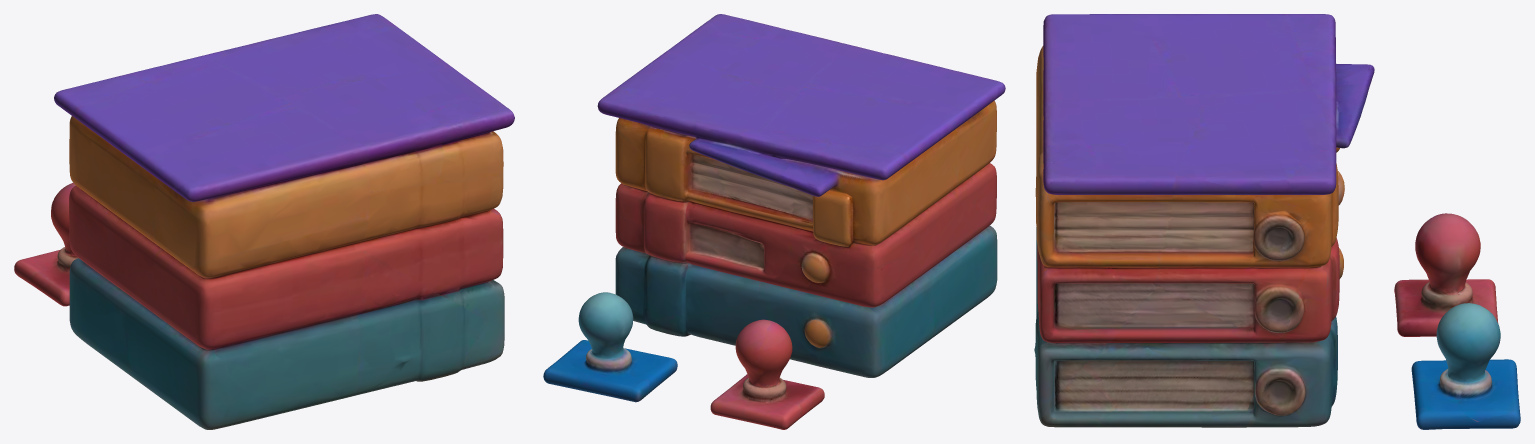
File: role_regulatory_reasoner_desk.glb
3 views of the same model, side by side, from view 1: azimuth 30°, elevation 25°; view 2: azimuth 150°, elevation 25°; view 3: azimuth 270°, elevation 25° (orthographic). The views are drawn at different scales.
Parts seen in each view (by area): view 1: tripo_node_2c0a401e-3ed2-48be-8f91-9cd66641907e; view 2: tripo_node_2c0a401e-3ed2-48be-8f91-9cd66641907e; view 3: tripo_node_2c0a401e-3ed2-48be-8f91-9cd66641907e.
Boxes of the visible parts, box(x1,y1,x2,y2) form: tripo_node_2c0a401e-3ed2-48be-8f91-9cd66641907e: box(14, 14, 514, 429); tripo_node_2c0a401e-3ed2-48be-8f91-9cd66641907e: box(543, 14, 1005, 429); tripo_node_2c0a401e-3ed2-48be-8f91-9cd66641907e: box(1034, 14, 1520, 429).
Bounding box in the file's own units: 0.7396 × 0.5399 × 0.8987.
Materials: 1 (1 with a texture image).
